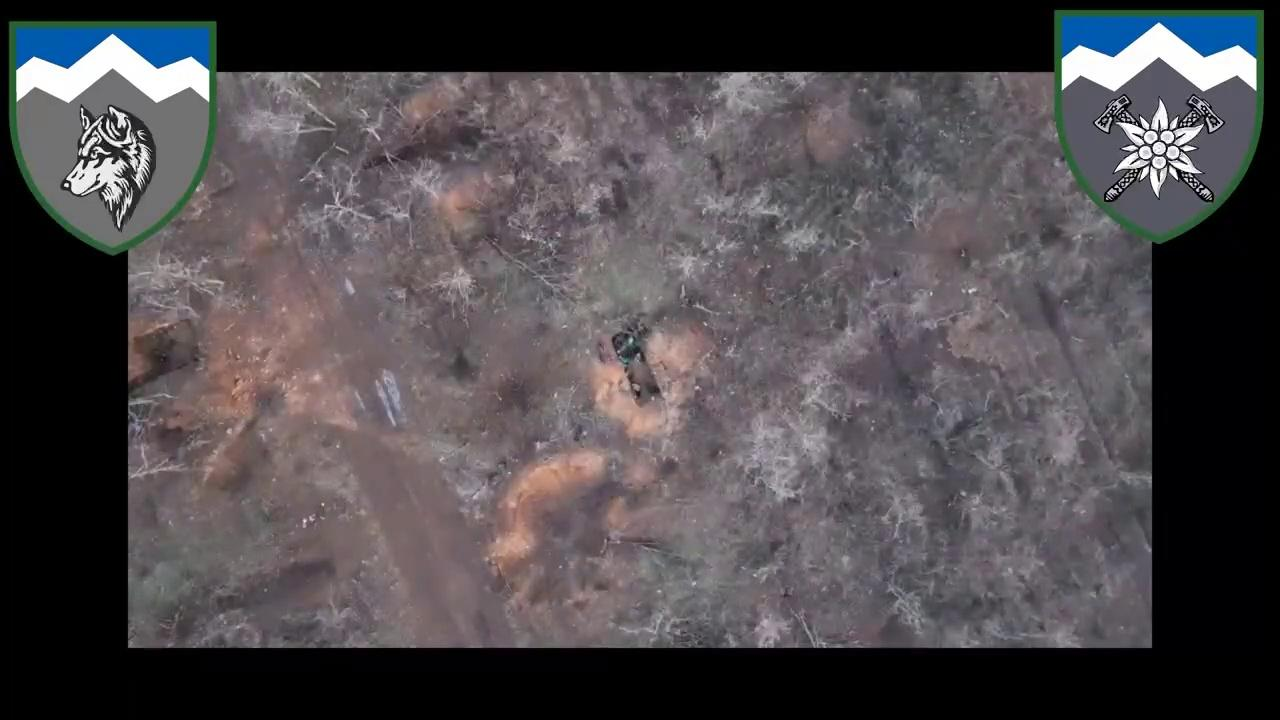person: (632, 380, 642, 400)
trench: (356, 108, 488, 170), (126, 312, 194, 398), (609, 330, 665, 402)
